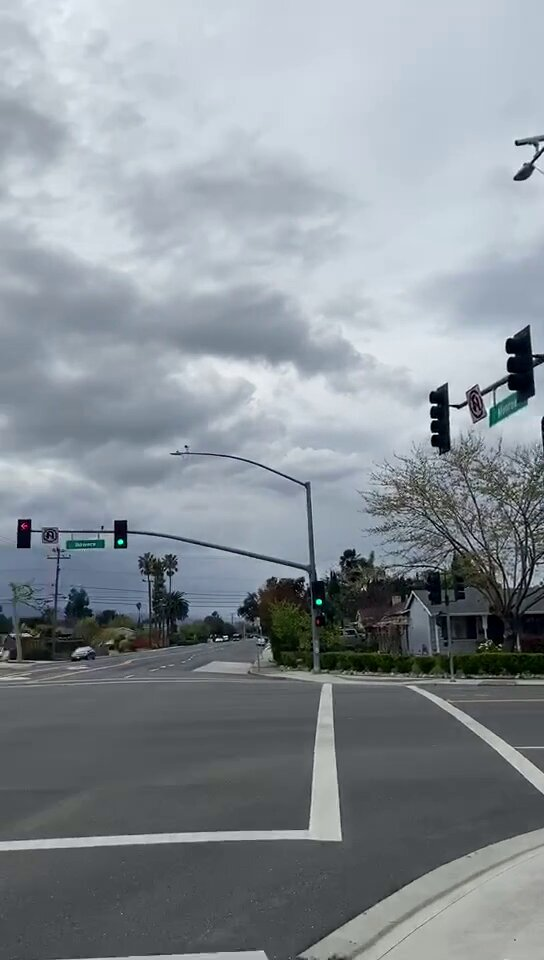green_light: (314, 583, 325, 611), (116, 522, 126, 546)
